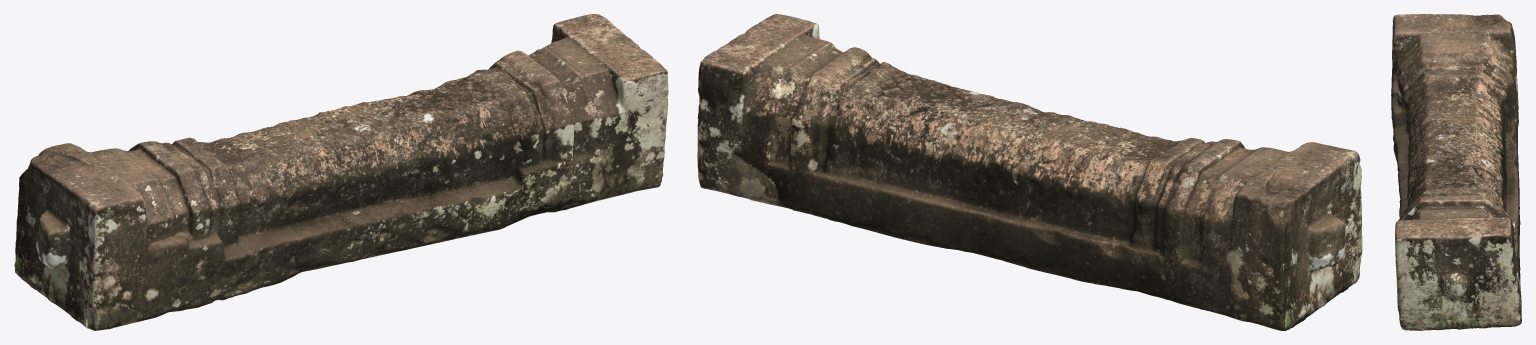
File: 32_MysonSanctuaryD_Tru_final.glb
The picture shows the model from 3 angles, left to right: view 1: azimuth 30°, elevation 25°; view 2: azimuth 150°, elevation 25°; view 3: azimuth 270°, elevation 25°; orthographic projection. The views are drawn at different scales.
Bounding box in the file's own units: 1.96 × 0.4081 × 0.4667.
1 material, 1 textured.
